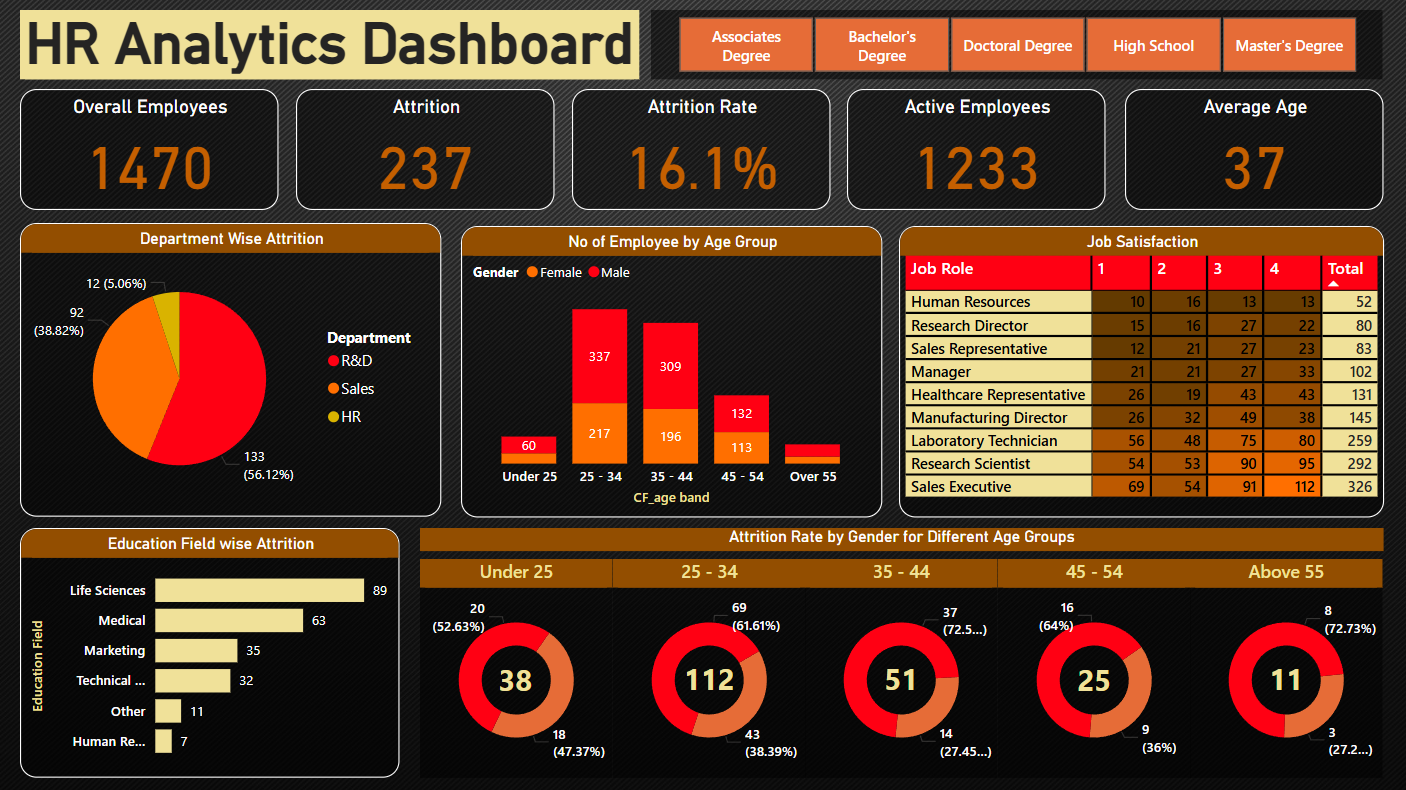

Layout of this report page (visuals, bound fields, positions):
{"tool":"powerbi","page":{"name":"Page 1","canvas":[1280,720],"ordinal":0},"visuals":[{"type":"card","title":"Overall Employees","fields":{"Values":["Sum(HR data.Employee Count)"]},"box":[18,82,235,110],"z":0},{"type":"card","title":"Attrition","fields":{"Values":["Sum(HR data.Attrition Count)"]},"box":[269,82,235,110],"z":1000},{"type":"card","title":"Attrition Rate","fields":{"Values":["HR data.Attrition Rate"]},"box":[520,82,235,110],"z":2000},{"type":"card","title":"Active Employees","fields":{"Values":["HR data.Active Employees"]},"box":[770,82,235,110],"z":3000},{"type":"card","title":"Average Age","fields":{"Values":["Avg(HR data.Age)"]},"box":[1023,82,235,110],"z":4000},{"type":"pieChart","title":"Department Wise Attrition","fields":{"Category":["HR data.Department"],"Y":["Sum(HR data.Attrition Count)"]},"box":[18,204,383,267],"z":5000},{"type":"columnChart","title":"No of Employee by Age Group","fields":{"Category":["HR data.CF_age band"],"Y":["Sum(HR data.Employee Count)"],"Series":["HR data.Gender"]},"box":[419,206,383,265],"z":6000},{"type":"pivotTable","title":"Job Satisfaction","fields":{"Rows":["HR data.Job Role"],"Columns":["HR data.Job Satisfaction"],"Values":["Sum(HR data.Employee Count)"]},"box":[817,206,441,265],"z":7000},{"type":"barChart","title":"Education Field wise Attrition","fields":{"Category":["HR data.Education Field"],"Y":["Sum(HR data.Attrition Count)"]},"box":[18,481,345,227],"z":8000},{"type":"donutChart","title":"Under 25","fields":{"Category":["HR data.Gender"],"Y":["Sum(HR data.Attrition Count)"],"Series":["HR data.CF_age band"]},"box":[382,509,175,199],"z":9000},{"type":"textbox","title":"Attrition Rate by Gender for Different Age Groups","box":[382,481,876,21],"z":10000},{"type":"donutChart","title":"25 - 34","fields":{"Category":["HR data.Gender"],"Y":["Sum(HR data.Attrition Count)"],"Series":["HR data.CF_age band"]},"box":[557,509,175,199],"z":11000},{"type":"donutChart","title":"35 - 44","fields":{"Category":["HR data.Gender"],"Y":["Sum(HR data.Attrition Count)"],"Series":["HR data.CF_age band"]},"box":[732,509,175,199],"z":12000},{"type":"donutChart","title":"45 - 54","fields":{"Category":["HR data.Gender"],"Y":["Sum(HR data.Attrition Count)"],"Series":["HR data.CF_age band"]},"box":[907,509,175,199],"z":13000},{"type":"donutChart","title":"Above 55","fields":{"Category":["HR data.Gender"],"Y":["Sum(HR data.Attrition Count)"],"Series":["HR data.CF_age band"]},"box":[1082,509,175,199],"z":14000},{"type":"card","fields":{"Values":["Sum(HR data.Attrition Count)"]},"box":[440,602,57,36],"z":15000},{"type":"card","fields":{"Values":["Sum(HR data.Attrition Count)"]},"box":[616,601,57,36],"z":16000},{"type":"card","fields":{"Values":["Sum(HR data.Attrition Count)"]},"box":[791,601,57,36],"z":17000},{"type":"card","fields":{"Values":["Sum(HR data.Attrition Count)"]},"box":[966,602,57,36],"z":18000},{"type":"card","fields":{"Values":["Sum(HR data.Attrition Count)"]},"box":[1141,601,57,36],"z":19000},{"type":"textbox","title":"HR Analytics Dashboard","box":[18,10,563,63],"z":20000},{"type":"slicer","fields":{"Values":["HR data.Education"]},"box":[592,10,665,63],"z":21000}]}

Visuals, with their boxes in screenshot pixels (x1, y1, x2, y2), scaled from the page's 1280x720 canvas onto the 1406x790 screenshot:
"Overall Employees" card: (x1=20, y1=90, x2=278, y2=211)
"Attrition" card: (x1=295, y1=90, x2=554, y2=211)
"Attrition Rate" card: (x1=571, y1=90, x2=829, y2=211)
"Active Employees" card: (x1=846, y1=90, x2=1104, y2=211)
"Average Age" card: (x1=1124, y1=90, x2=1382, y2=211)
"Department Wise Attrition" pieChart: (x1=20, y1=224, x2=440, y2=517)
"No of Employee by Age Group" columnChart: (x1=460, y1=226, x2=881, y2=517)
"Job Satisfaction" pivotTable: (x1=897, y1=226, x2=1382, y2=517)
"Education Field wise Attrition" barChart: (x1=20, y1=528, x2=399, y2=777)
"Under 25" donutChart: (x1=420, y1=558, x2=612, y2=777)
"Attrition Rate by Gender for Different Age Groups" textbox: (x1=420, y1=528, x2=1382, y2=551)
"25 - 34" donutChart: (x1=612, y1=558, x2=804, y2=777)
"35 - 44" donutChart: (x1=804, y1=558, x2=996, y2=777)
"45 - 54" donutChart: (x1=996, y1=558, x2=1189, y2=777)
"Above 55" donutChart: (x1=1189, y1=558, x2=1381, y2=777)
card - Sum(HR data.Attrition Count): (x1=483, y1=661, x2=546, y2=700)
card - Sum(HR data.Attrition Count): (x1=677, y1=659, x2=739, y2=699)
card - Sum(HR data.Attrition Count): (x1=869, y1=659, x2=931, y2=699)
card - Sum(HR data.Attrition Count): (x1=1061, y1=661, x2=1124, y2=700)
card - Sum(HR data.Attrition Count): (x1=1253, y1=659, x2=1316, y2=699)
"HR Analytics Dashboard" textbox: (x1=20, y1=11, x2=638, y2=80)
slicer - HR data.Education: (x1=650, y1=11, x2=1381, y2=80)
